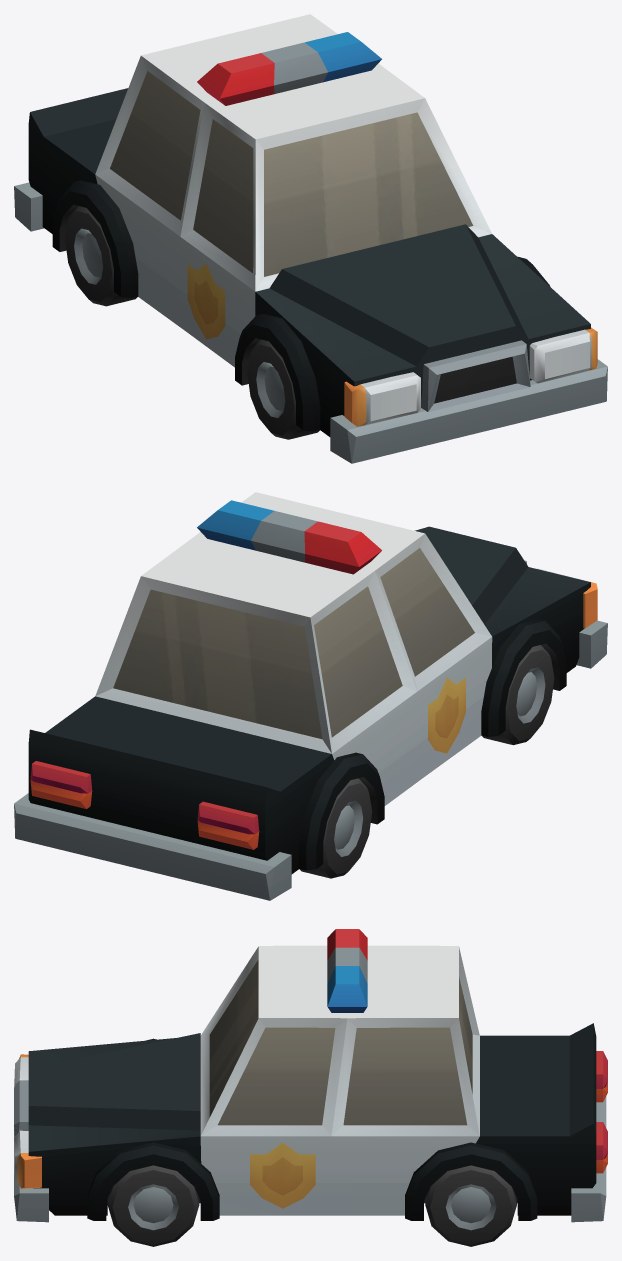
The model's file is kaykit-car-police.glb.
3 views of the same model, one above another, from view 1: azimuth 30°, elevation 25°; view 2: azimuth 150°, elevation 25°; view 3: azimuth 270°, elevation 25° (orthographic). The views are drawn at different scales.
Parts seen in each view (by area): view 1: car_police; view 2: car_police; view 3: car_police.
Boxes of the visible parts, box(x1,y1,x2,y2) form: car_police: box(14, 14, 607, 463); car_police: box(14, 492, 607, 900); car_police: box(14, 929, 607, 1246).
Bounding box in the file's own units: 0.4189 × 0.4126 × 0.9381.
1 material, 1 textured.
